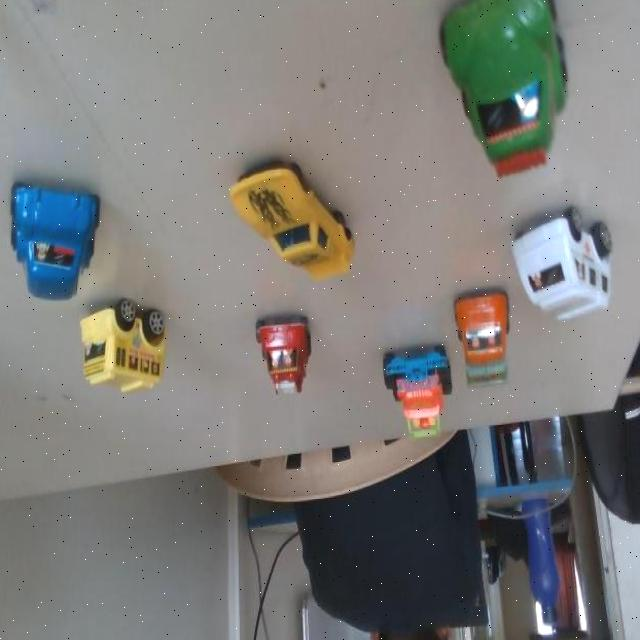car: (448, 1, 590, 170), (225, 152, 372, 288), (510, 193, 624, 336), (4, 175, 102, 303), (87, 292, 177, 394), (250, 298, 327, 408), (370, 346, 451, 448), (452, 284, 518, 398)
